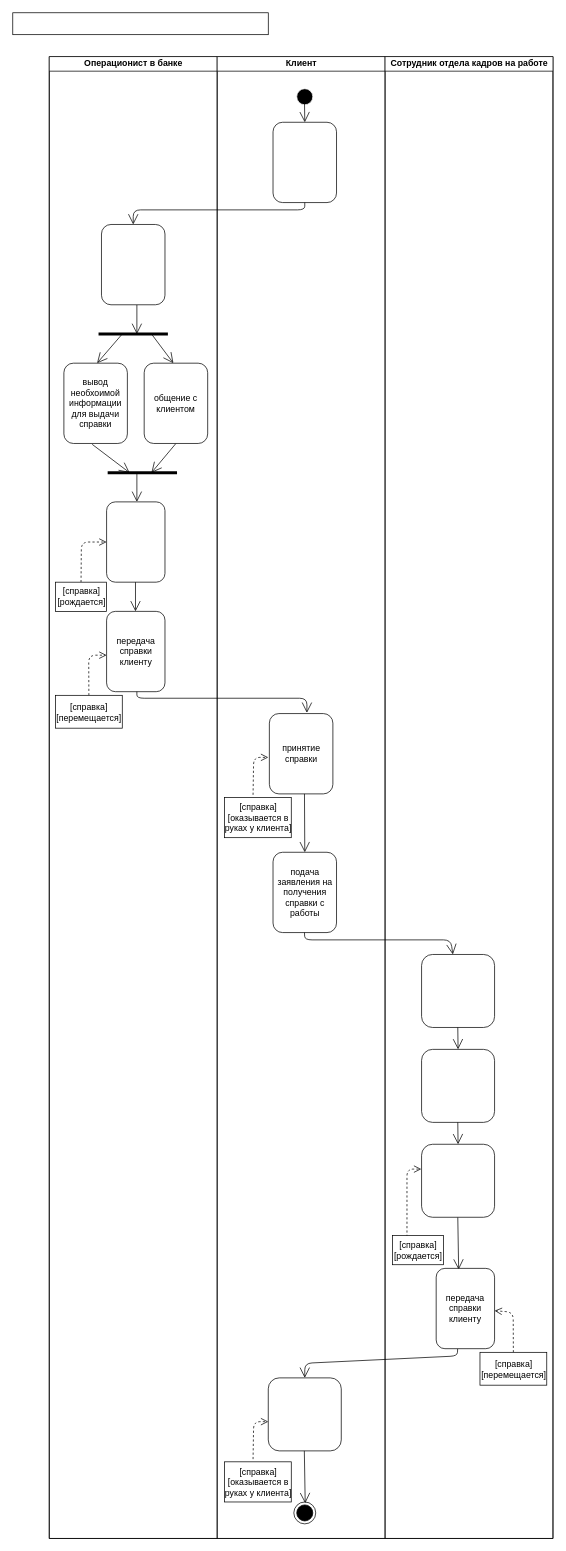
Image size: 566x1551. Some labels were removed from this diagram. The box of each missing label's shape, as (x1, y1, x2, y2) in pixels:
< activity > Сбор необходимых справок для получения визы: (12, 12, 268, 35)
Печать справки: (421, 1144, 495, 1217)
печать справки о доходах: (106, 501, 165, 582)
подача завяления на изготовление справки из банка: (272, 122, 337, 203)
получение заявления на изготовление справки с места работы: (421, 954, 495, 1027)
Получение информации о з/п и названии должности клиента: (421, 1049, 495, 1122)
Получение справки: (268, 1377, 341, 1451)
принятие заявления на изготовление справки о доходах: (101, 224, 165, 305)
